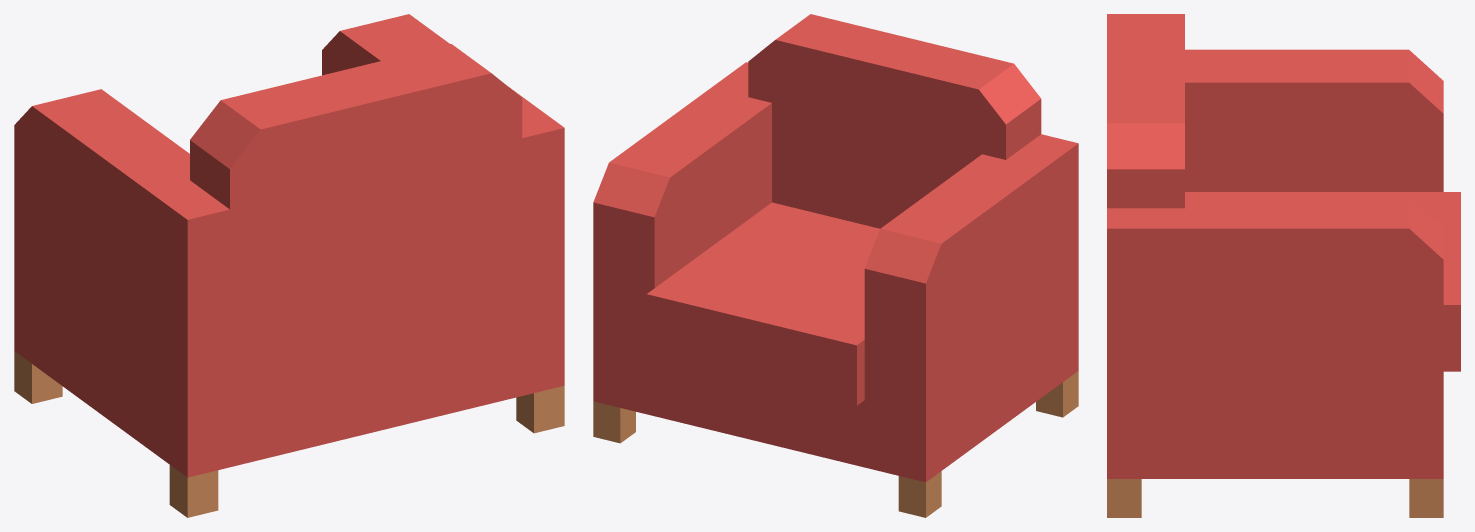
The model's file is loungeChair.obj.
3 renders of one model, left to right at view 1: azimuth 30°, elevation 25°; view 2: azimuth 150°, elevation 25°; view 3: azimuth 270°, elevation 25°, orthographic. The views are drawn at different scales.
Parts seen in each view (by area): view 1: loungeChair; view 2: loungeChair; view 3: loungeChair.
Part boxes in pixels (x1,y1,x2,y2): loungeChair: [14, 14, 564, 517]; loungeChair: [593, 14, 1078, 517]; loungeChair: [1107, 14, 1460, 517].
Bounding box in the file's own units: 0.49 × 0.46 × 0.41.
